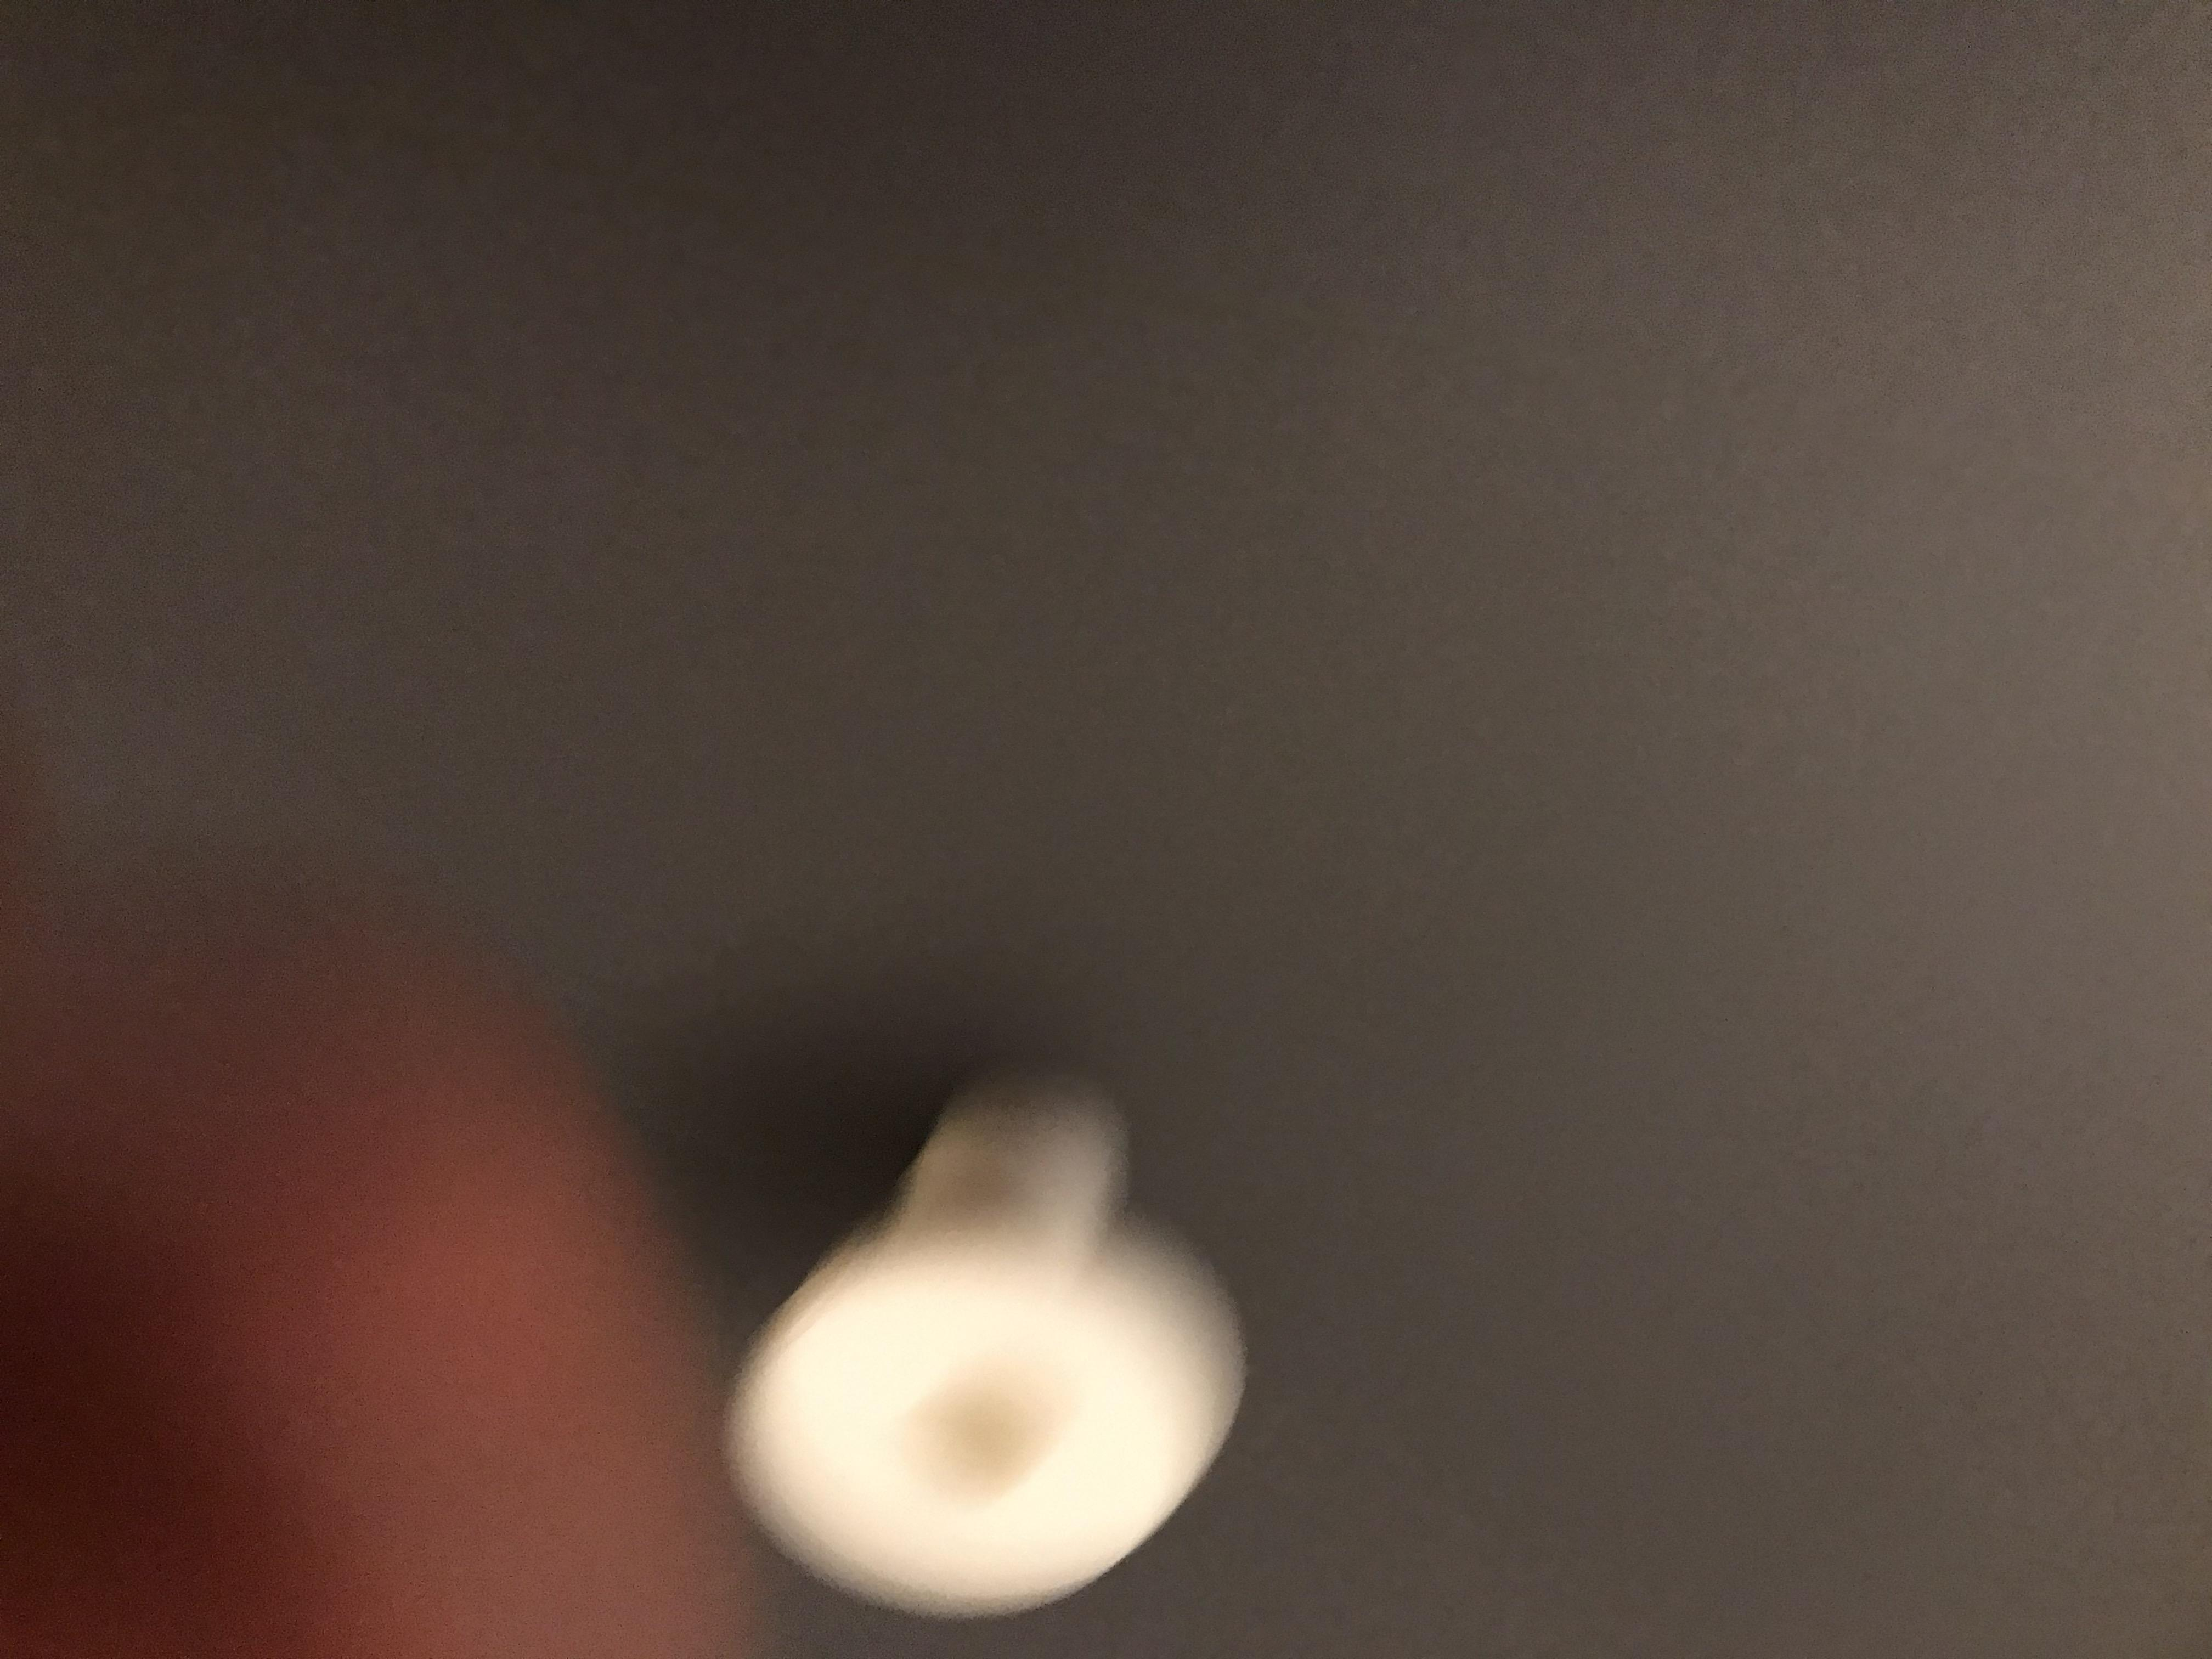White Cone: (723, 1066, 1244, 1608)
